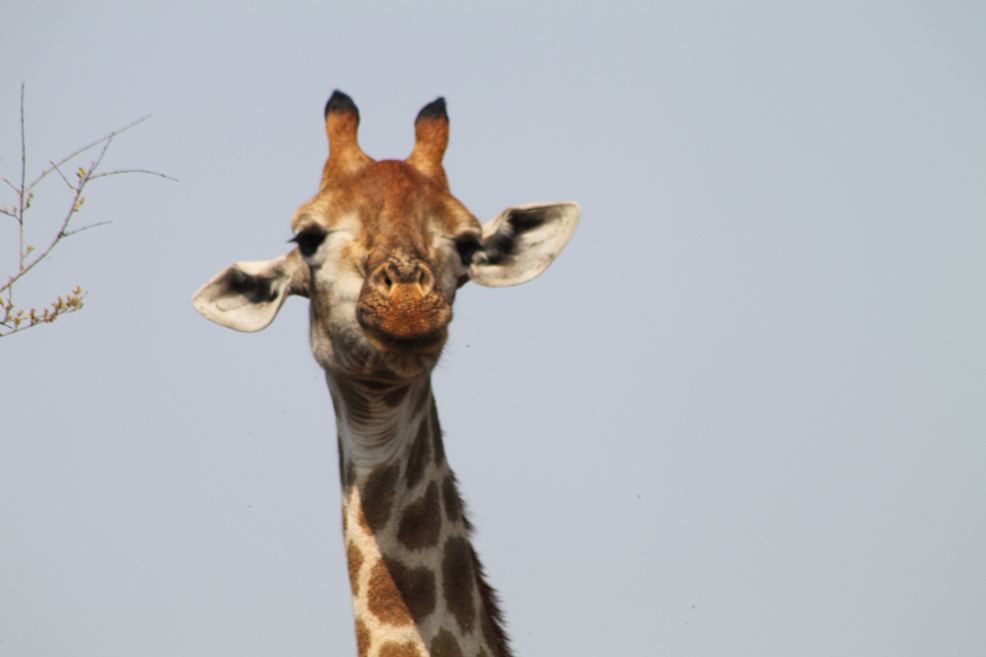giraffe: (196, 108, 616, 628)
